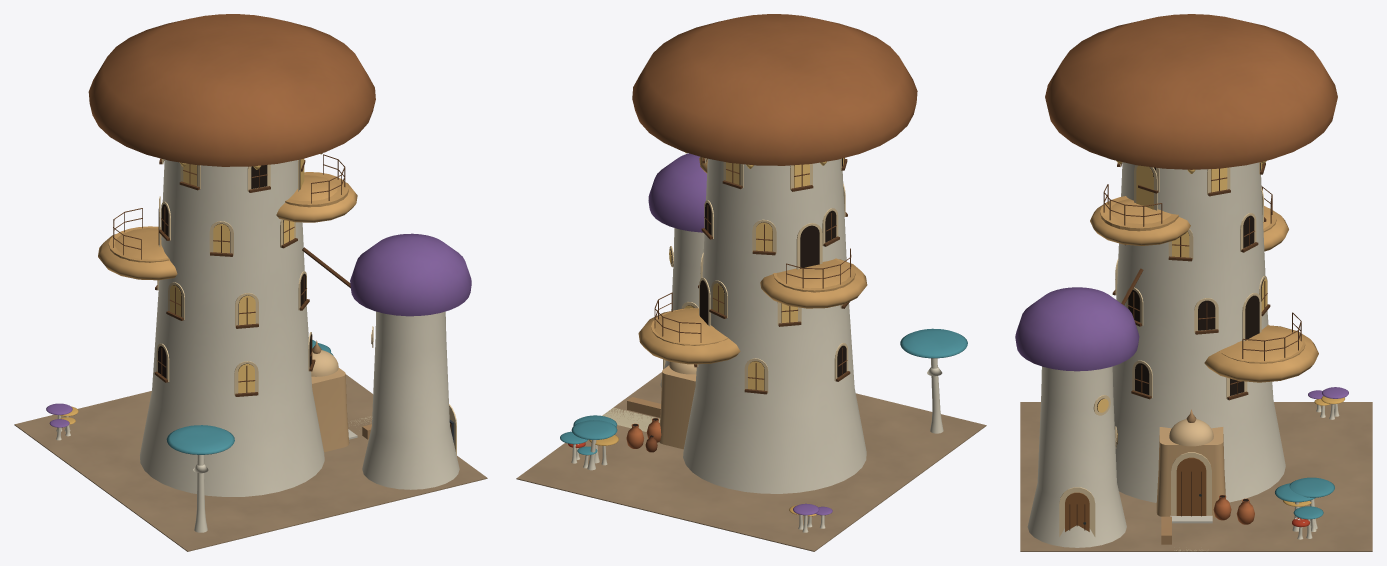
File: hl_houbovy_dum.glb
3 renders of one model, left to right at view 1: azimuth 30°, elevation 25°; view 2: azimuth 150°, elevation 25°; view 3: azimuth 270°, elevation 25°, orthographic. The views are drawn at different scales.
Parts seen in each view (by area): view 1: dum, noc; view 2: dum, noc; view 3: dum, noc.
Boxes of the visible parts, bbox=[...] form: dum: bbox=[14, 14, 487, 551]; noc: bbox=[161, 153, 371, 393]; dum: bbox=[516, 14, 986, 551]; noc: bbox=[669, 152, 844, 390]; dum: bbox=[1015, 14, 1372, 551]; noc: bbox=[1097, 160, 1267, 444].
Bounding box in the file's own units: 14.36 × 18.86 × 14.36.
1 material, 1 textured.
